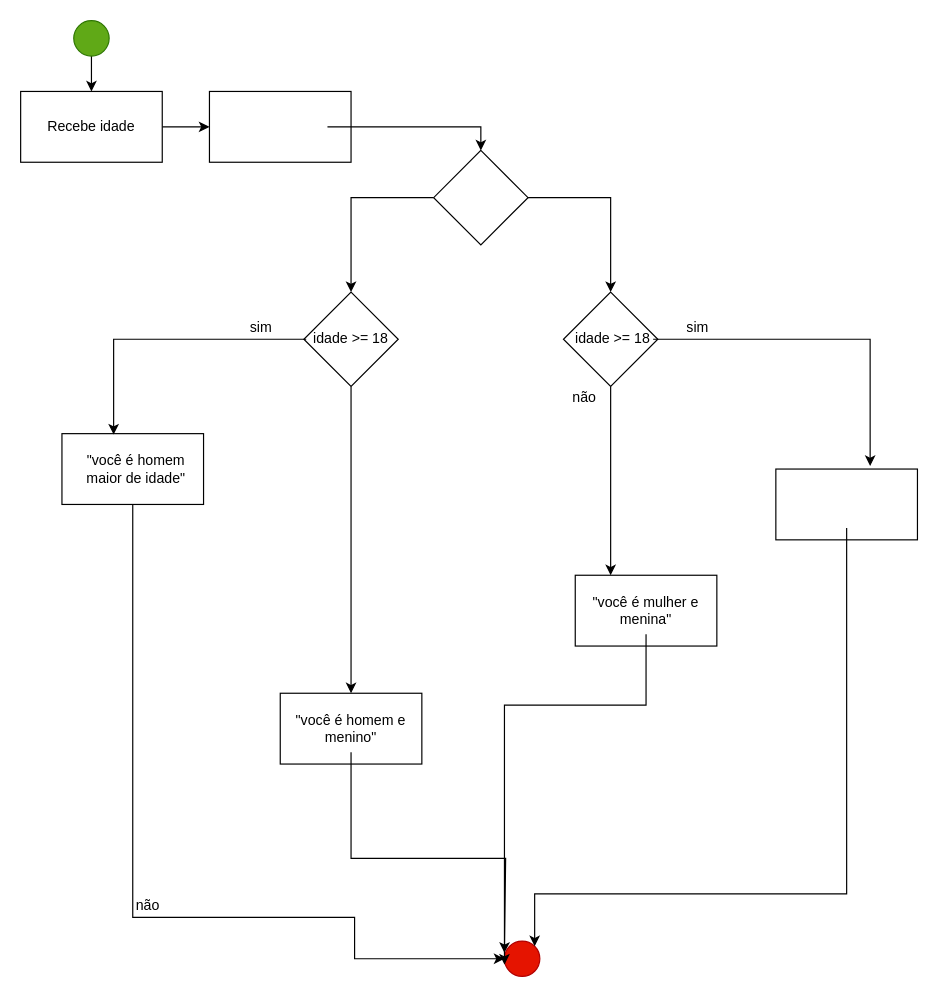
Some shapes in this 938 by 997 pixel diagram are drawn without their labels. The shapes that lost their labels are listed below. From the top down, each one's centre as x and y in pixels, then its label:
[279,126]: Recebe sexo
[480,197]: sexo = h
[846,504]: "você é mulher maior de idade"
